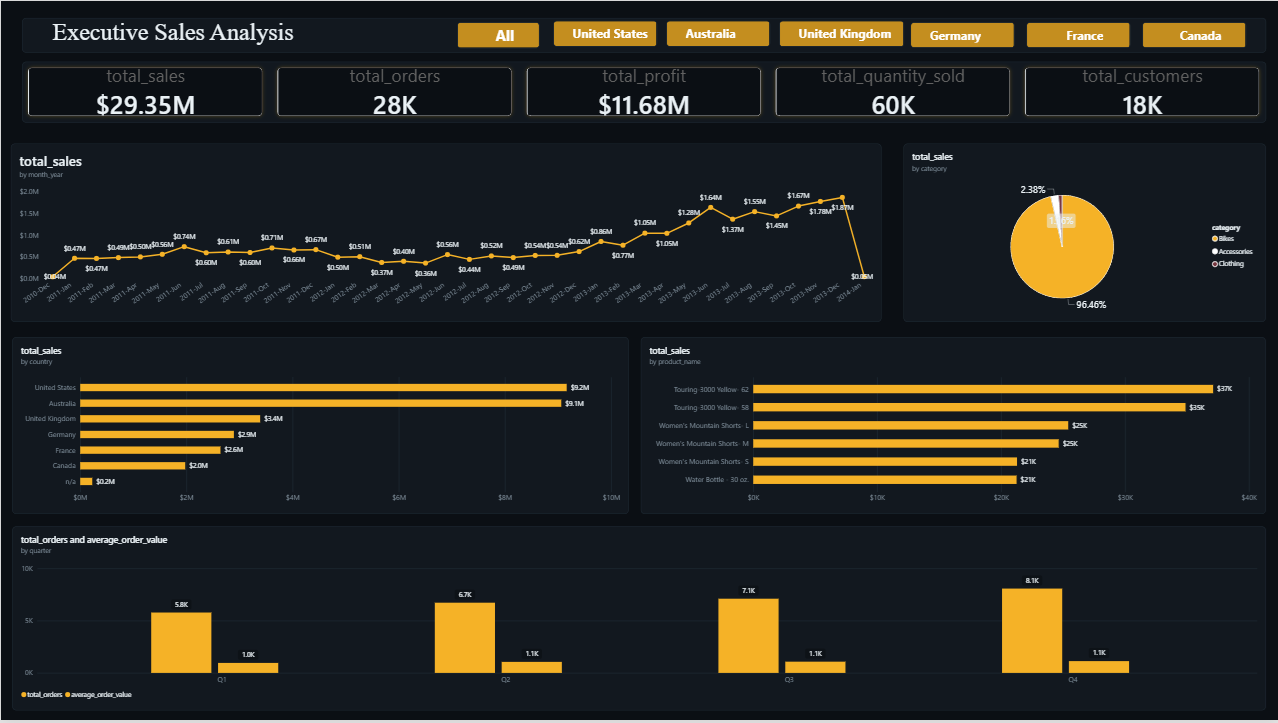

This screenshot's page, from the dashboard's own definition file:
{"tool":"powerbi","page":{"name":"Page 1","canvas":[2560,1440],"ordinal":0},"visuals":[{"type":"cardVisual","fields":{"Data":["_measures.total_sales","_measures.total_orders","_measures.total_profit","_measures.total_quantity_sold","_measures.total_customers"]},"box":[41.5,121.8,2490.3,121.8],"z":0},{"type":"lineChart","fields":{"Category":["date_table.month_year"],"Y":["_measures.total_sales"]},"box":[19.4,285,1743.2,356.9],"z":1000},{"type":"clusteredBarChart","fields":{"Category":["gold dim_customers.country"],"Y":["_measures.total_sales"]},"box":[22.1,672.4,1234.1,354.2],"z":2000},{"type":"clusteredBarChart","fields":{"Category":["gold dim_products.product_name"],"Y":["_measures.total_sales"]},"box":[1281.1,672.4,1250.7,354.2],"z":3000},{"type":"textbox","box":[41.5,33.2,2490.3,69.2],"z":4000},{"type":"pieChart","fields":{"Category":["gold dim_products.category"],"Y":["_measures.total_sales"]},"box":[1806.9,285,725,356.9],"z":5000},{"type":"lineClusteredColumnComboChart","fields":{"Category":["date_table.quarter"],"Y":["_measures.total_orders","_measures.average_order_value"]},"box":[22.1,1051.5,2509.7,368],"z":6000},{"type":"actionButton","box":[1105,40,208,52],"z":7000},{"type":"actionButton","box":[1332.5,40,208,52],"z":8000},{"type":"actionButton","box":[1557.5,40,250,52.5],"z":9000},{"type":"actionButton","box":[1822,42,208,52],"z":10000},{"type":"actionButton","box":[2052,42,208,52],"z":11000},{"type":"actionButton","box":[2284,42,208,52],"z":12000},{"type":"actionButton","box":[912.5,42.5,165,52.5],"z":13000}]}

Visuals, with their boxes in screenshot pixels (x1, y1, x2, y2), scaled from the page's 2560x1440 canvas onto the 1278x723 screenshot:
cardVisual - _measures.total_sales x _measures.total_orders: <box>21,61,1264,122</box>
lineChart - date_table.month_year x _measures.total_sales: <box>10,143,880,322</box>
clusteredBarChart - gold dim_customers.country x _measures.total_sales: <box>11,338,627,515</box>
clusteredBarChart - gold dim_products.product_name x _measures.total_sales: <box>640,338,1264,515</box>
textbox: <box>21,17,1264,51</box>
pieChart - gold dim_products.category x _measures.total_sales: <box>902,143,1264,322</box>
lineClusteredColumnComboChart - date_table.quarter x _measures.total_orders: <box>11,528,1264,713</box>
actionButton: <box>552,20,655,46</box>
actionButton: <box>665,20,769,46</box>
actionButton: <box>778,20,902,46</box>
actionButton: <box>910,21,1013,47</box>
actionButton: <box>1024,21,1128,47</box>
actionButton: <box>1140,21,1244,47</box>
actionButton: <box>456,21,538,48</box>
